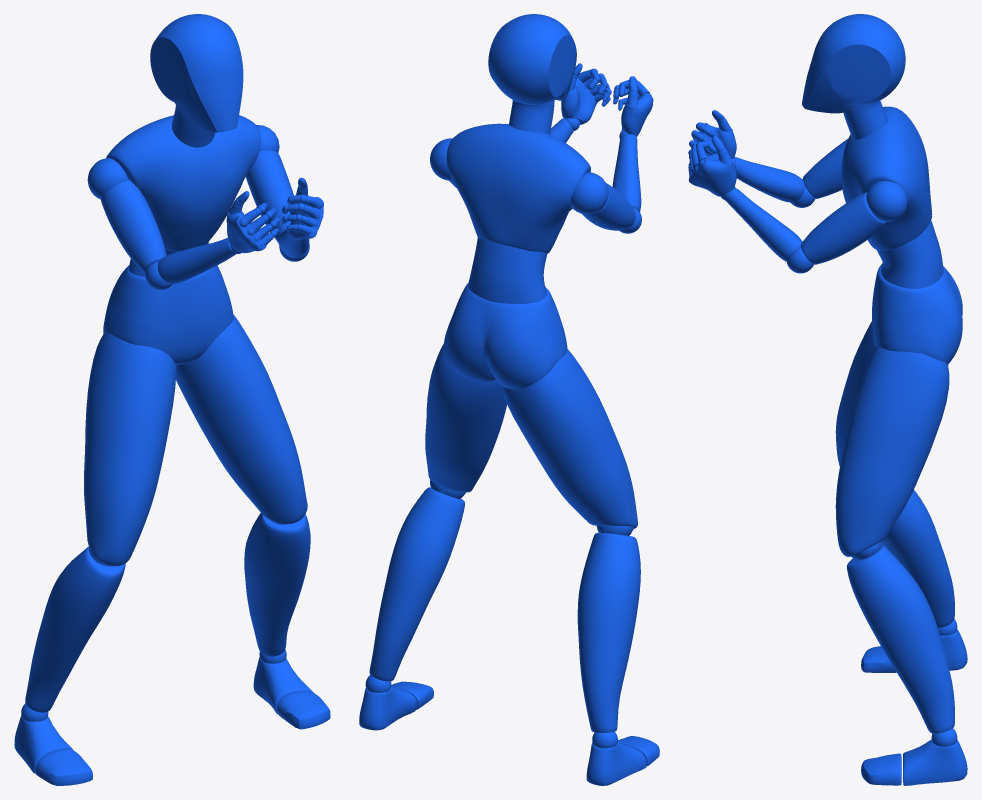
Rendered from GoddesSignCrouchSign003.fbx.
3 renders of one model, left to right at view 1: azimuth 30°, elevation 25°; view 2: azimuth 150°, elevation 25°; view 3: azimuth 270°, elevation 25°, orthographic. The views are drawn at different scales.
Parts seen in each view (by area): view 1: Adjustable Mannequin Mesh; view 2: Adjustable Mannequin Mesh; view 3: Adjustable Mannequin Mesh.
Boxes of the visible parts, box(x1,y1,x2,y2) form: Adjustable Mannequin Mesh: box(14, 14, 330, 785); Adjustable Mannequin Mesh: box(359, 14, 659, 785); Adjustable Mannequin Mesh: box(688, 14, 967, 785).
Bounding box in the file's own units: 60.48 × 151 × 54.23.
